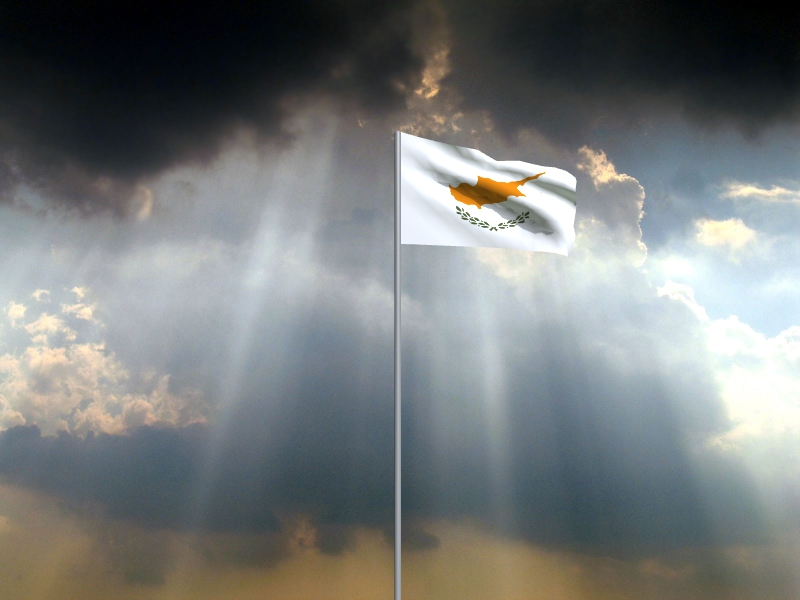cy: (401, 132, 579, 258)
